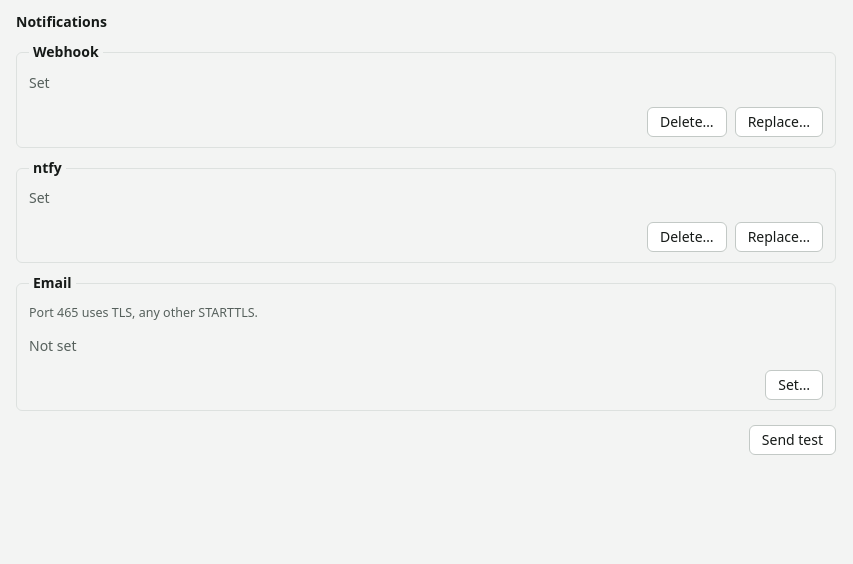
Scenario: notifications › sends a test and shows how each target took it
The image size is (853, 564).
Click the button "Send test" at (792, 440), box [749,425,836,455]
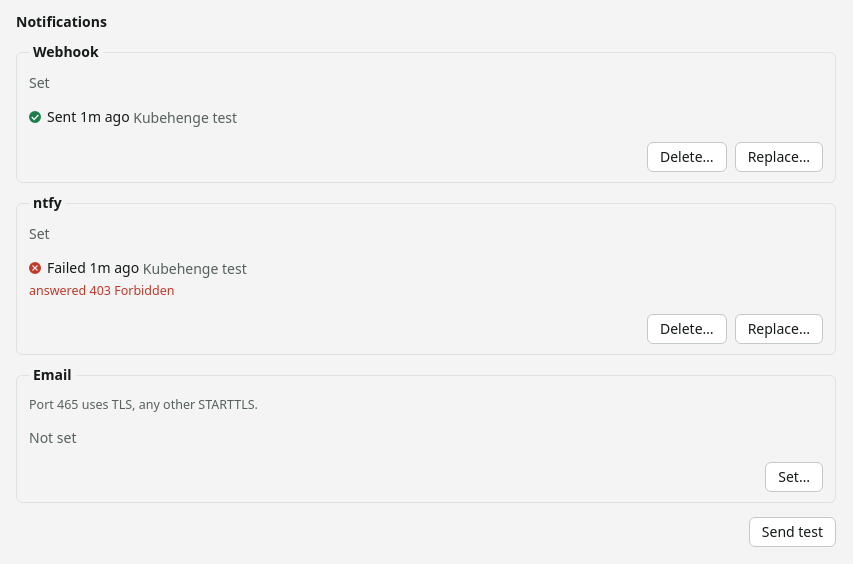
Now the text "answered 403 Forbidden" is shown, box [29,282,174,299]
Now the text "Sent 1m ago" is shown, box [29,107,130,127]
